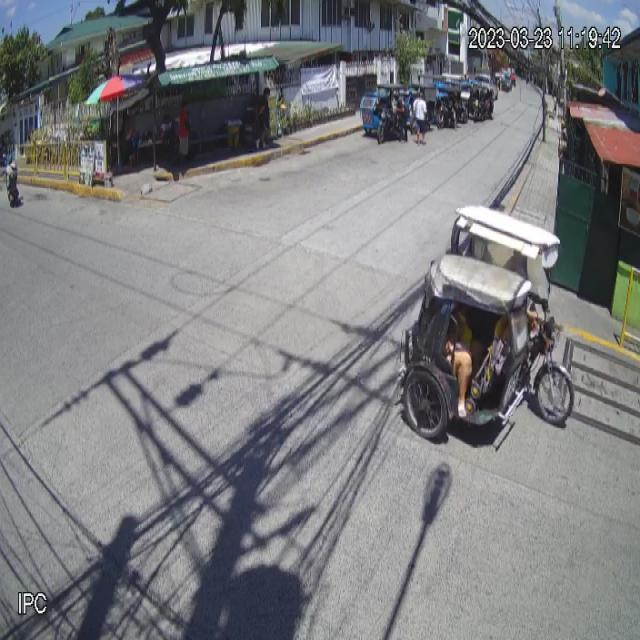Tricycle: (402, 205, 574, 451)
